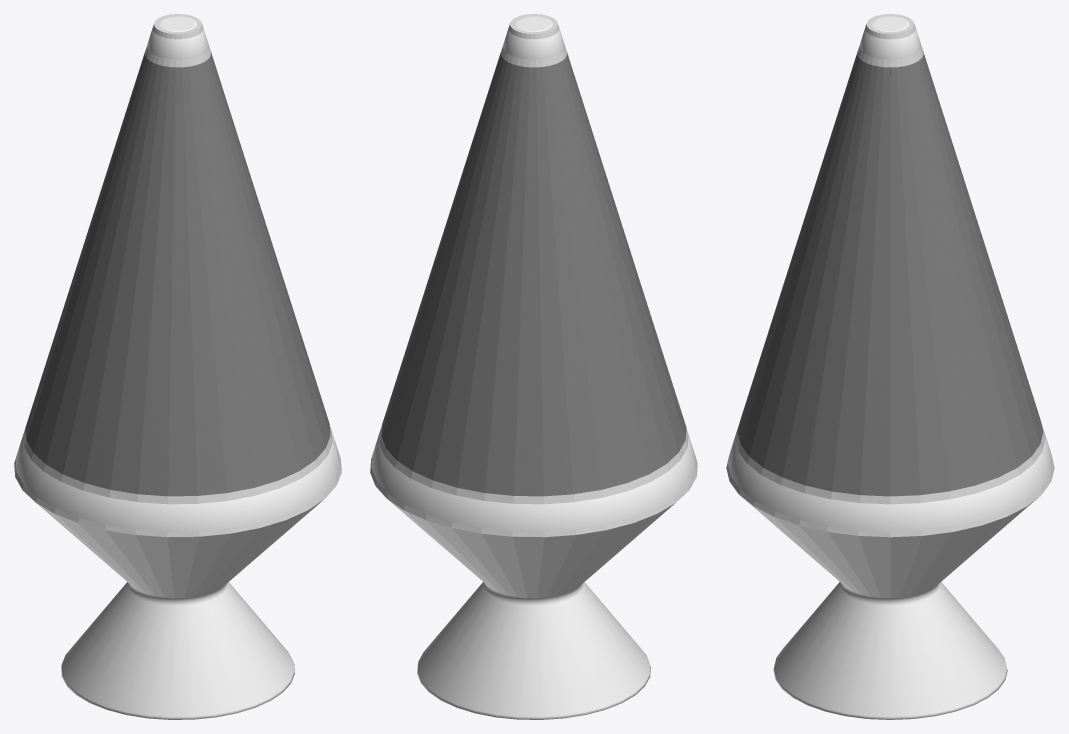
Rendered from Project.glb.
3 renders of one model, left to right at view 1: azimuth 30°, elevation 25°; view 2: azimuth 150°, elevation 25°; view 3: azimuth 270°, elevation 25°, orthographic.
Visible parts, largest first — view 1: Bounds, Glass, Body; view 2: Bounds, Glass, Body; view 3: Bounds, Glass, Body.
Part boxes in pixels (<box>): Bounds: <box>14,14,341,598</box>; Glass: <box>25,52,330,495</box>; Body: <box>15,16,340,719</box>; Bounds: <box>370,14,697,598</box>; Glass: <box>381,52,686,495</box>; Body: <box>371,16,696,719</box>; Bounds: <box>726,14,1054,598</box>; Glass: <box>737,54,1043,495</box>; Body: <box>728,16,1052,719</box>.
Bounding box in the file's own units: 3.83 × 8.33 × 3.83.
2 materials, 1 textured.
